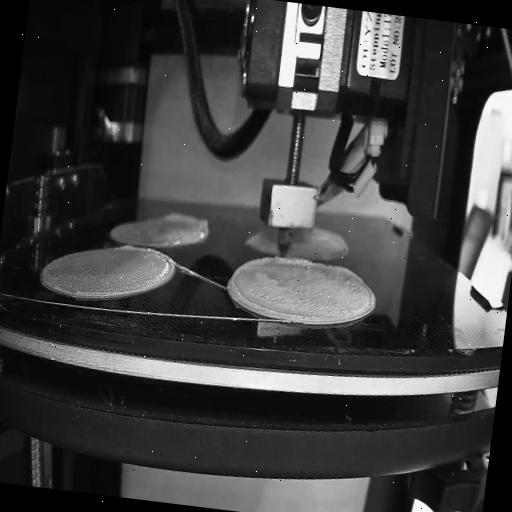over_extrusion: (224, 250, 320, 320), (164, 207, 218, 237), (120, 242, 142, 254)
